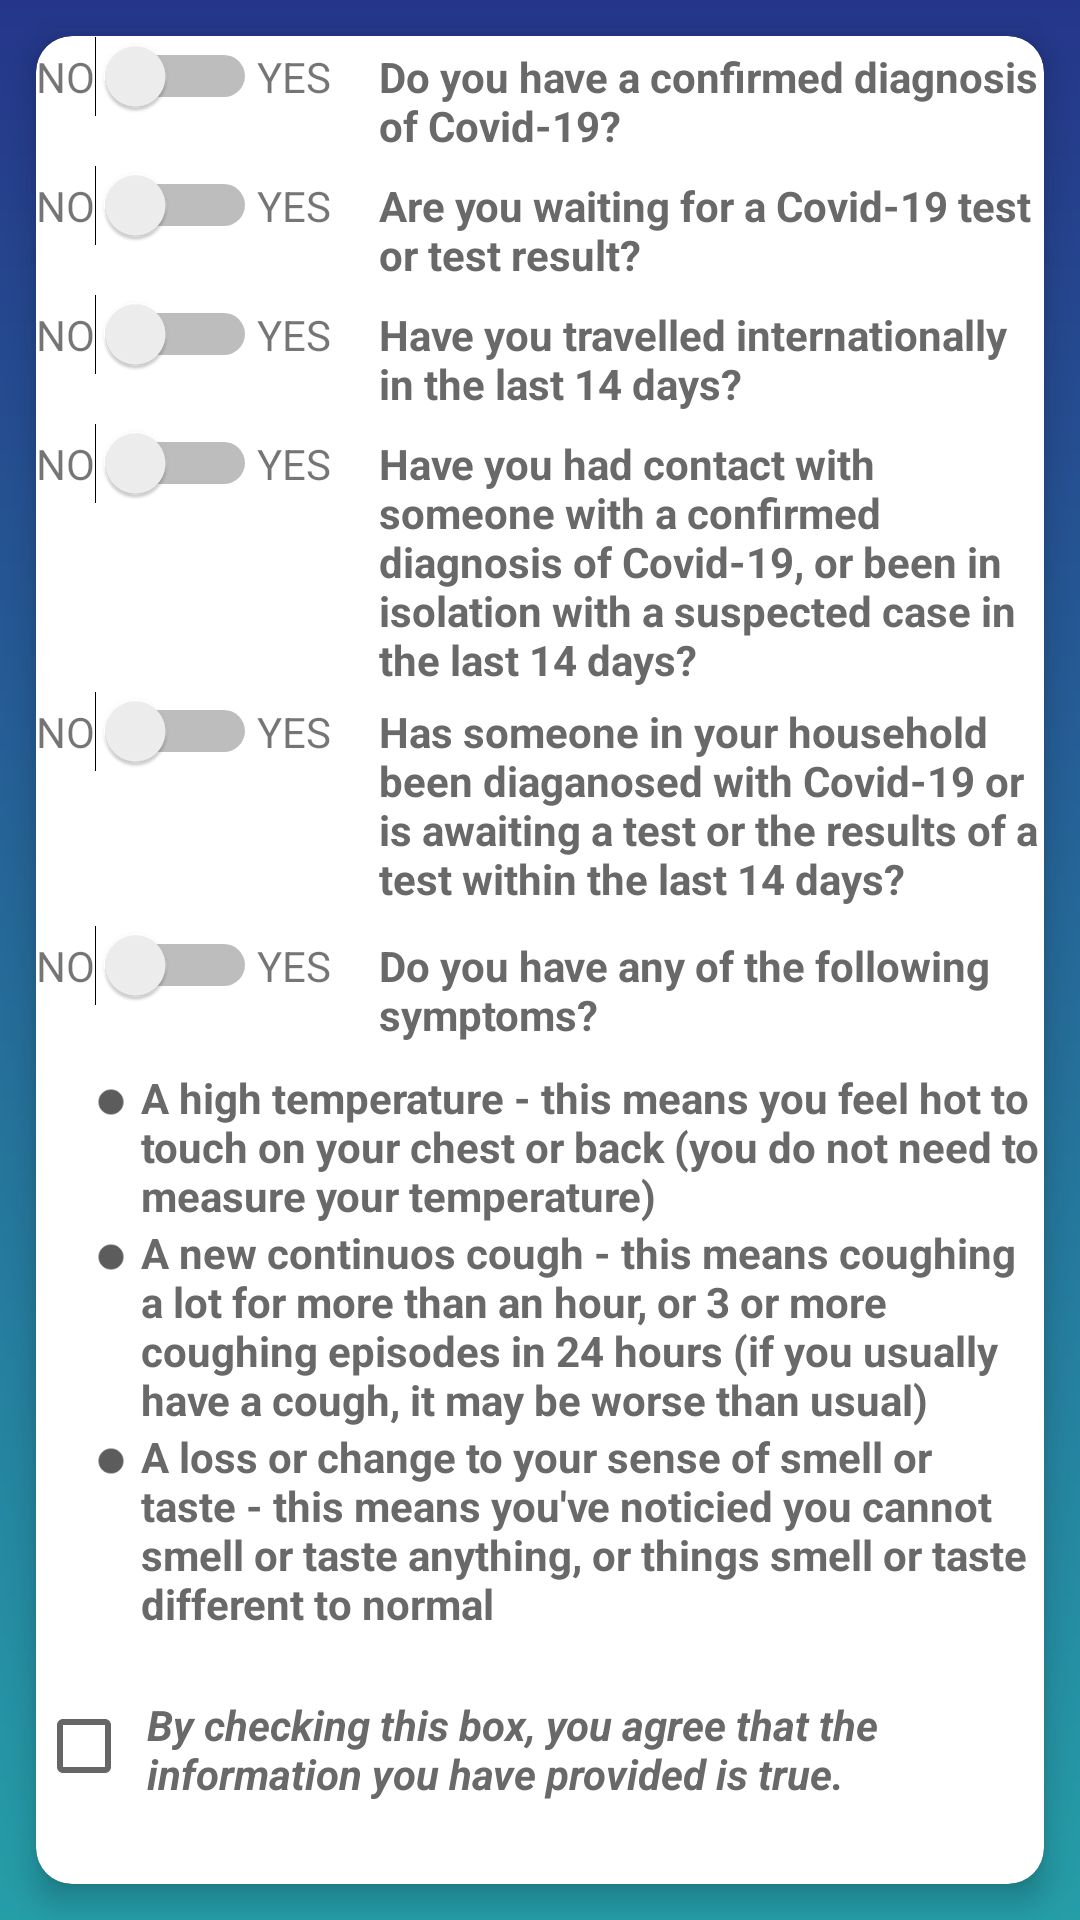

Screen size 1080 × 1920. Icon name, then its center in pixels as point (x, y):
bulletpoint: point (111, 1102), point (111, 1257), point (111, 1461)
